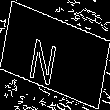N_N: (38, 25, 72, 85)
